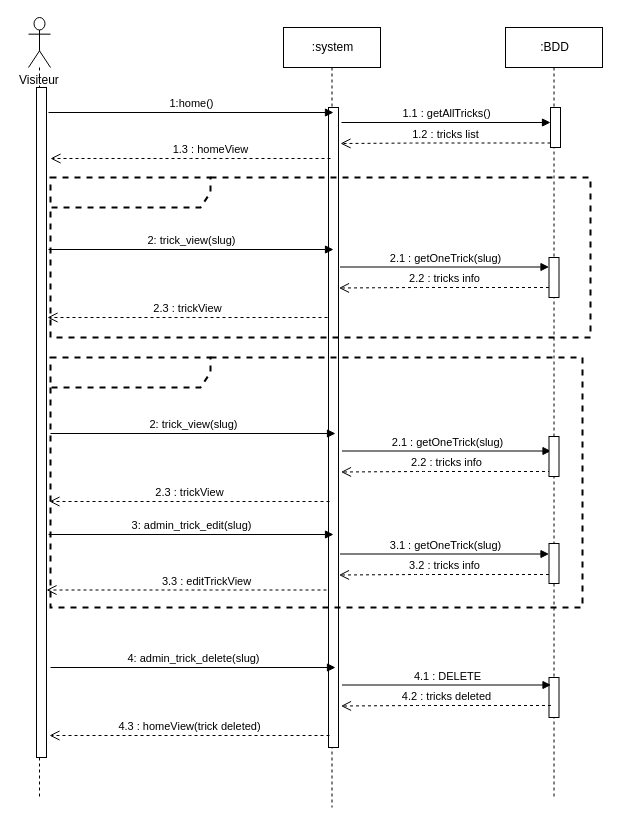
Some shapes in this 620 by 825 pixel diagram are drawn without their labels. Here are the shapes that lost their labels. From the top down, the centre of each, then its label:
point 320,257: alt:view trick before delete
point 316,482: alt:edit trick before delete
